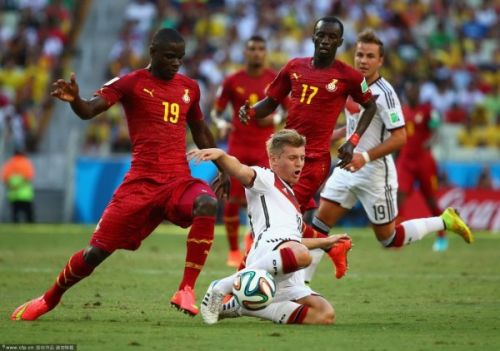10+: (2, 1, 500, 335)
down: (183, 124, 349, 332)
